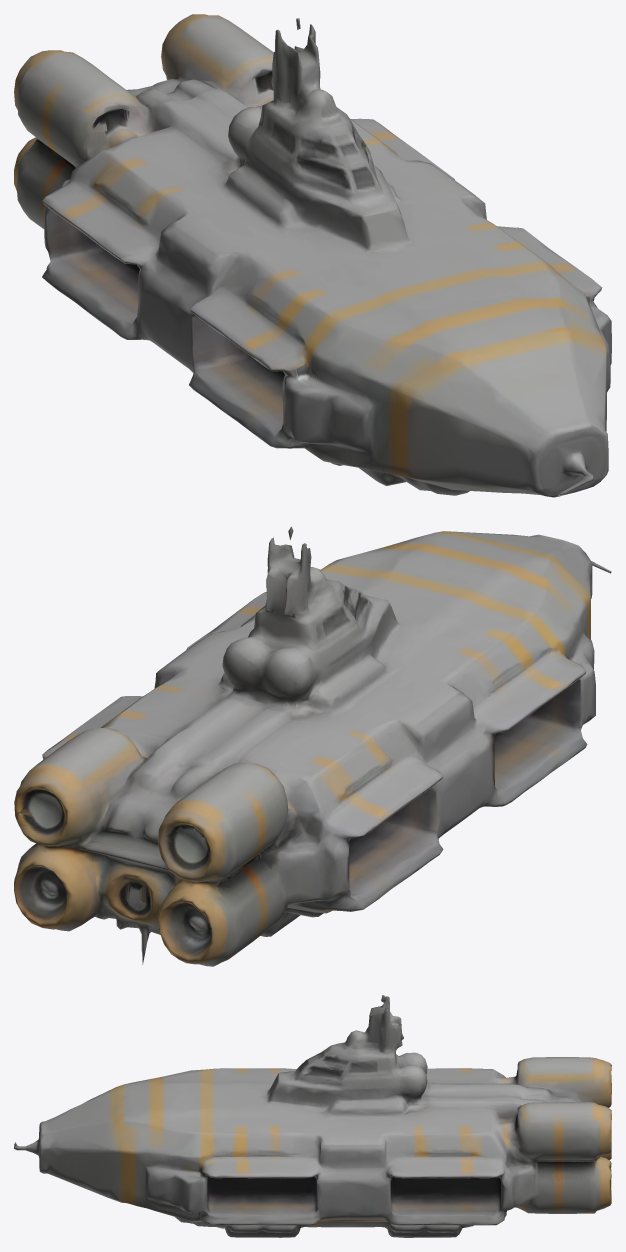
Rendered from spacecruiser_optimizado.glb.
The picture shows the model from 3 angles, top to bottom: view 1: azimuth 30°, elevation 25°; view 2: azimuth 150°, elevation 25°; view 3: azimuth 270°, elevation 25°; orthographic projection. The views are drawn at different scales.
Visible parts, largest first — view 1: input; view 2: input; view 3: input.
Boxes of the visible parts, bbox=[...] form: input: bbox=[14, 14, 611, 497]; input: bbox=[14, 526, 611, 966]; input: bbox=[14, 995, 611, 1237].
Size of the model in its own units: 14.08 by 15.03 by 35.
1 material, 1 textured.
